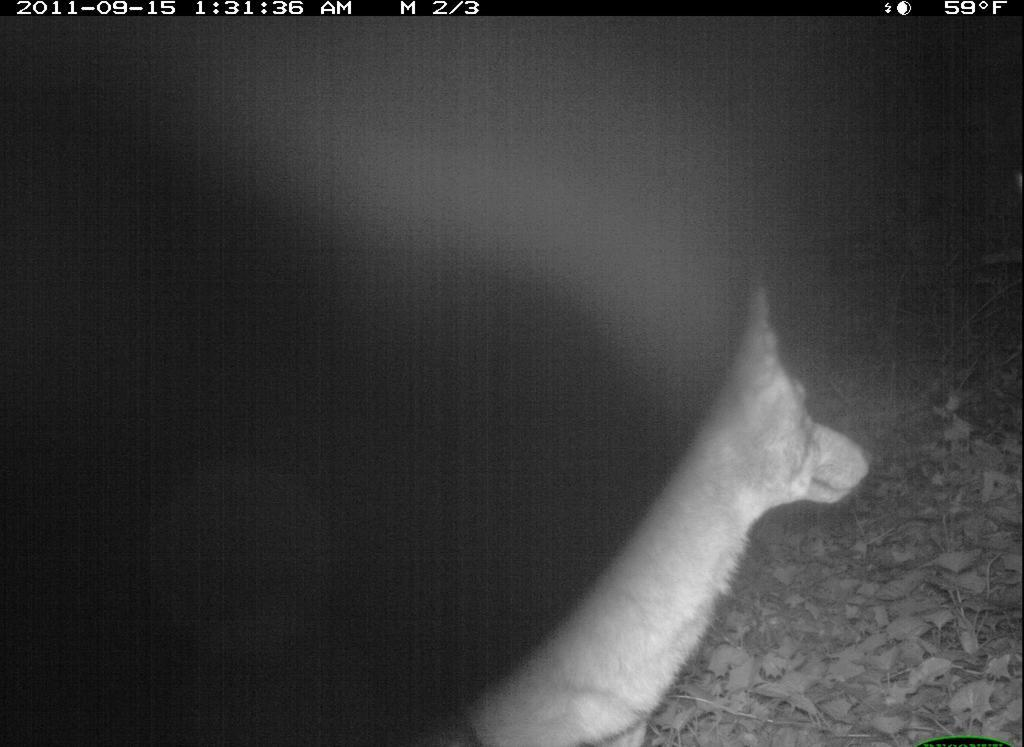coyote: (418, 280, 885, 747)
